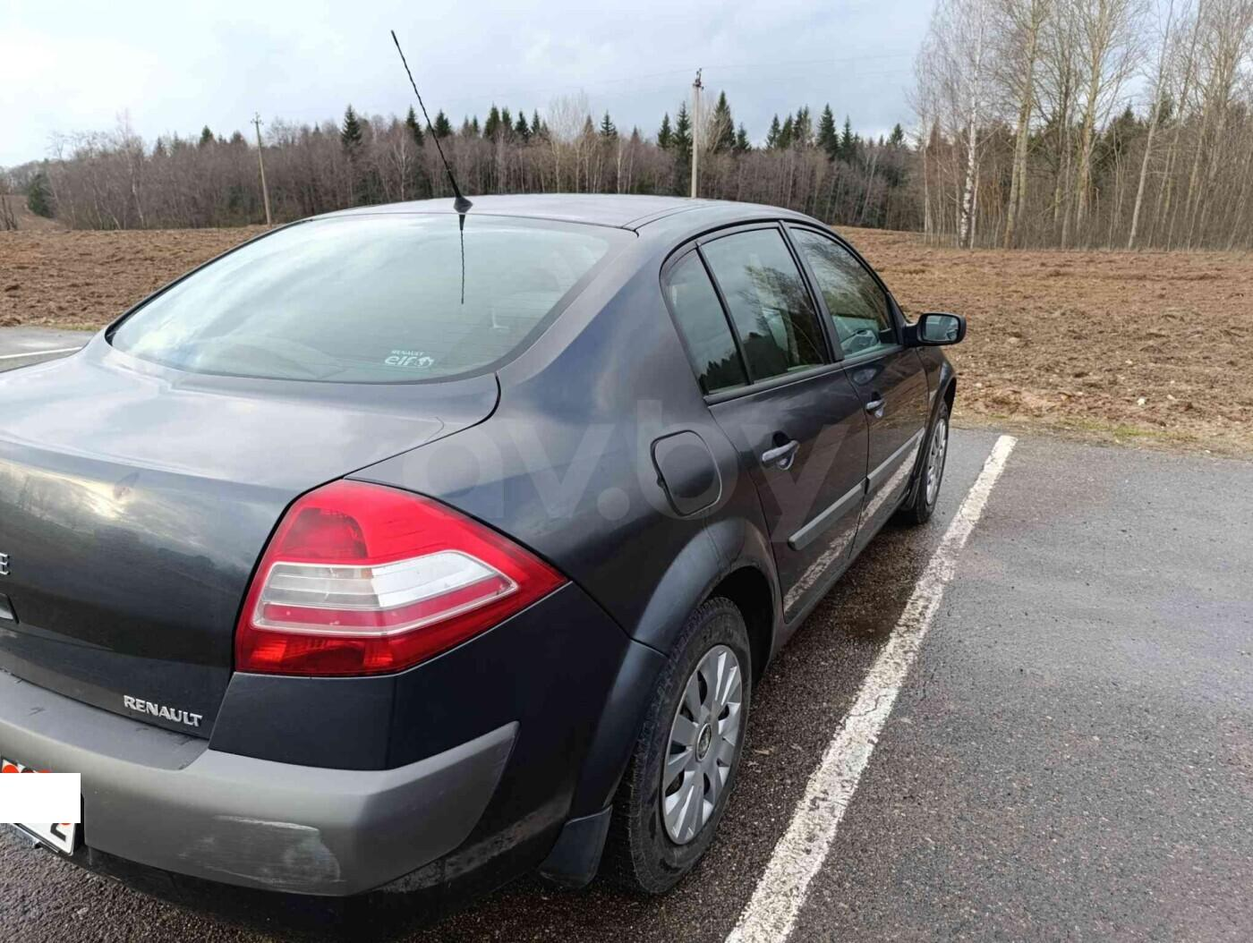Megane_2005-2009: (0, 176, 969, 934)
